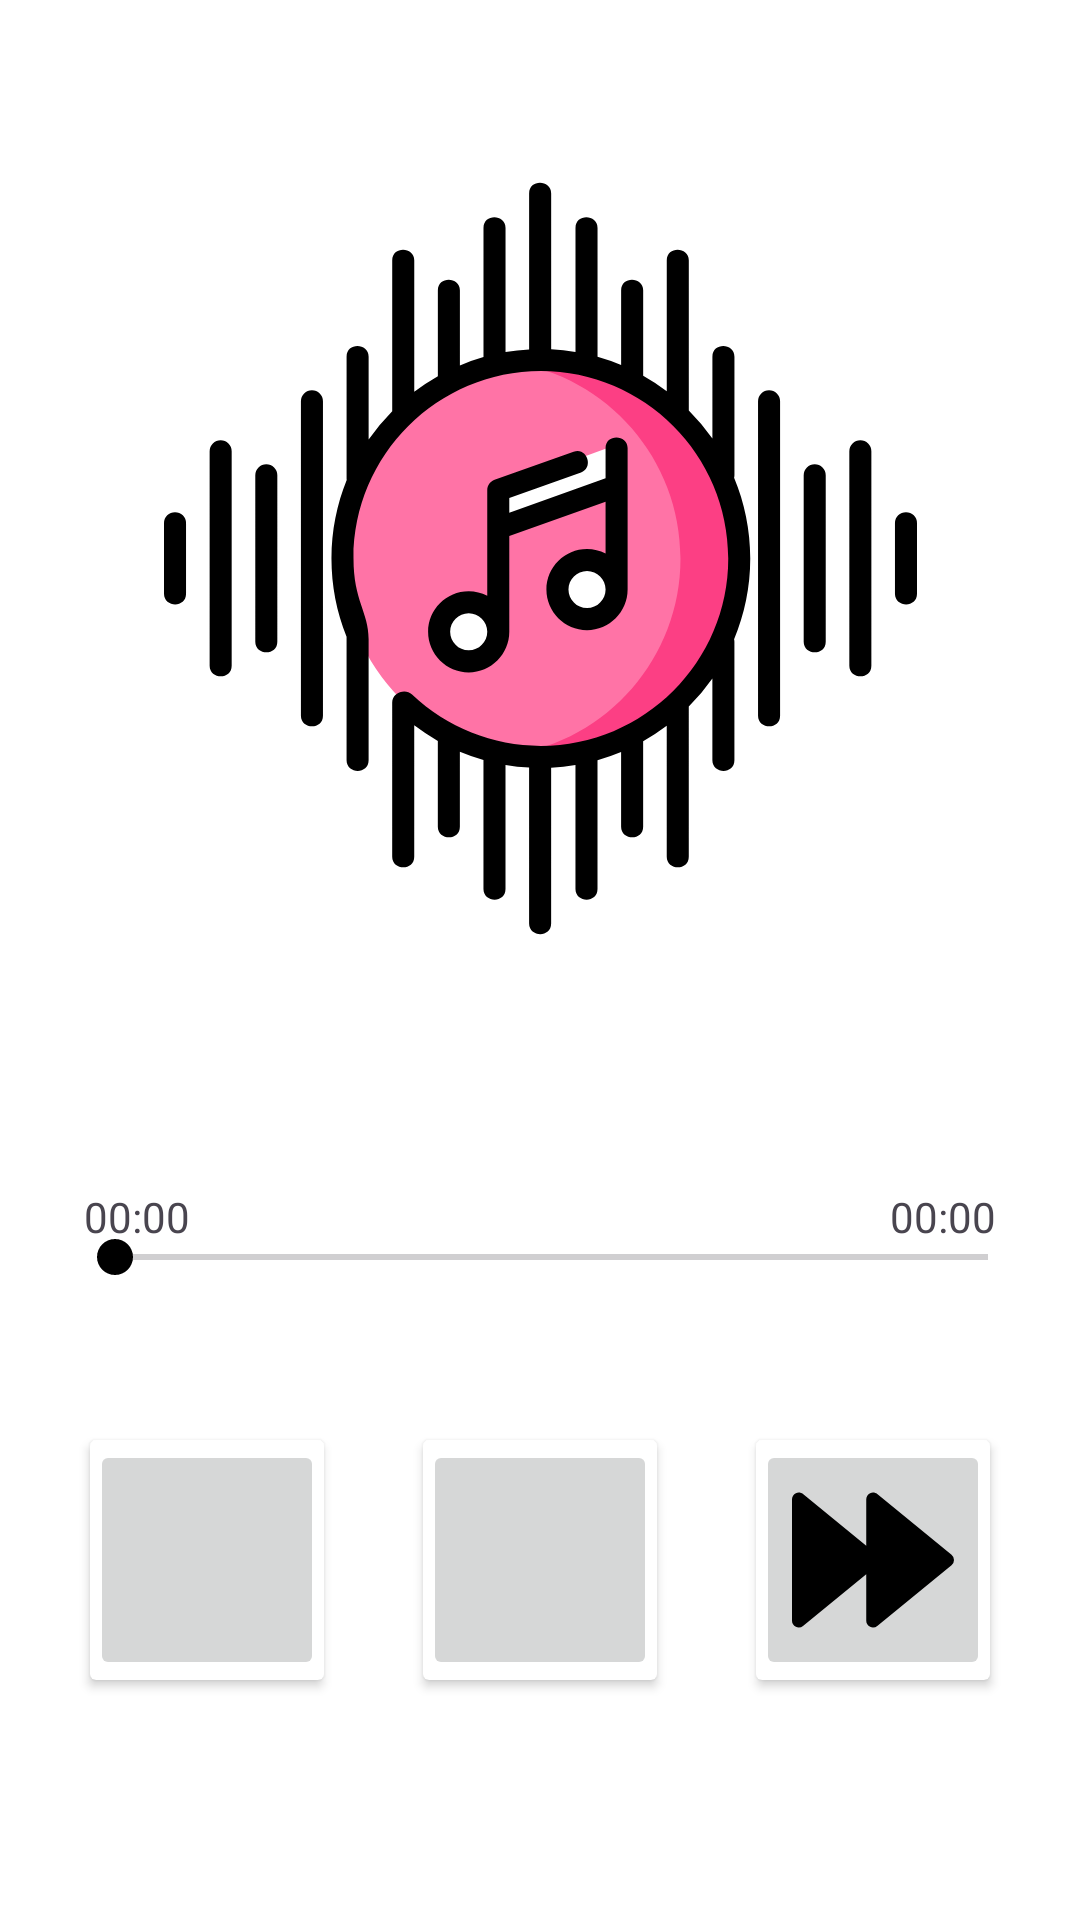

Screen size 1080 × 1920. Icon name, then its box in pixels as region(x1, y1, x2, y2):
forward: region(757, 1458, 990, 1680)
